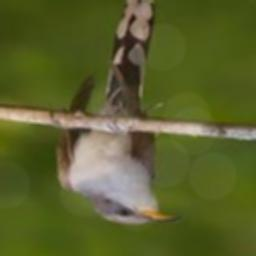Cuckoo: (55, 0, 183, 225)
